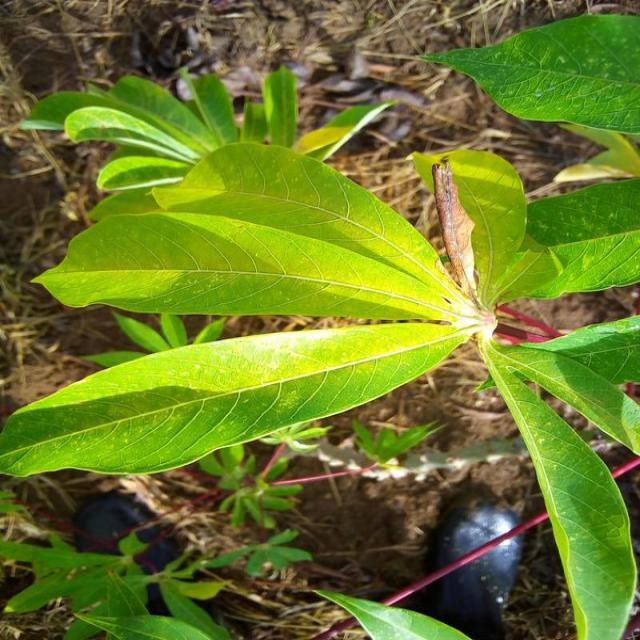cassava leaf: (1, 64, 638, 637), (414, 11, 639, 134)
